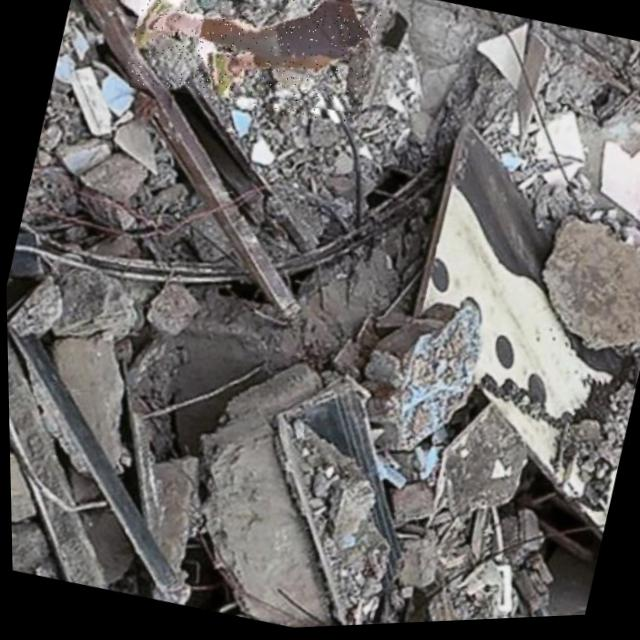Person in Rubble: (120, 0, 382, 139)
